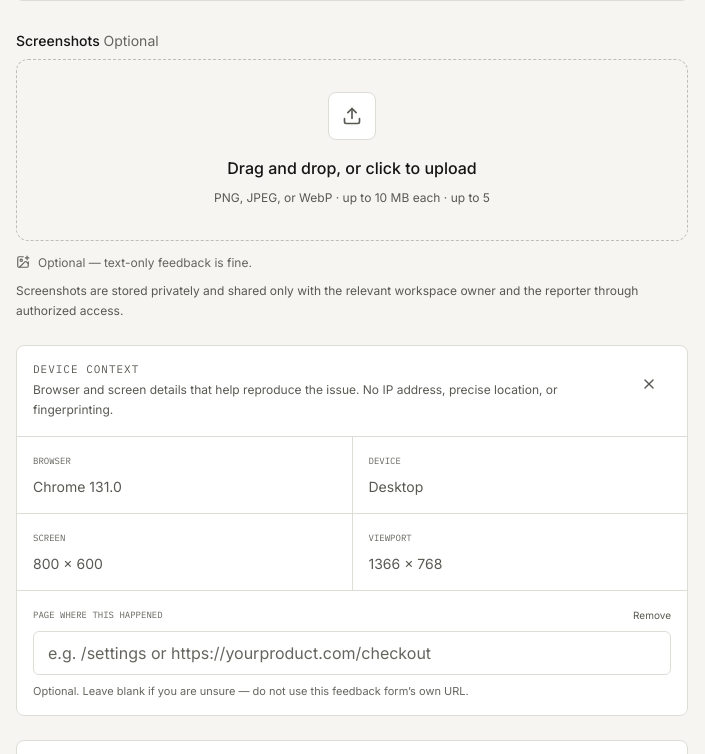
Test: allows browser context and page URL to be removed before submission
The width and height of the screenshot is (705, 754).
(page scrolled)
What coordinates should you click on to do the following:
click the button named "Remove browser and device context"
I would click on:
 (649, 384)
Its box is x1=627 y1=362 x2=671 y2=406.
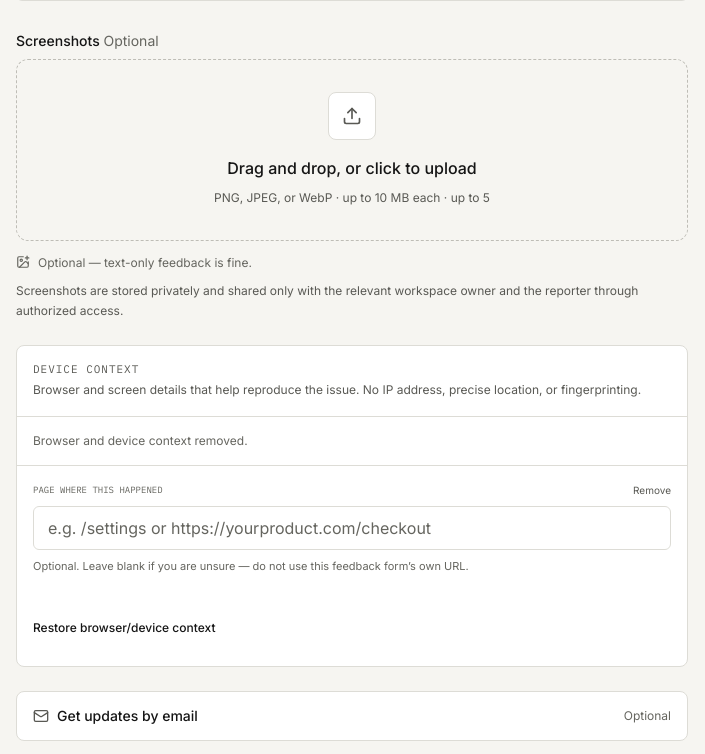
What coordinates should you click on to do the following:
click the button "Remove"
I would click on:
 (652, 490)
Its box is x1=633 y1=482 x2=671 y2=498.
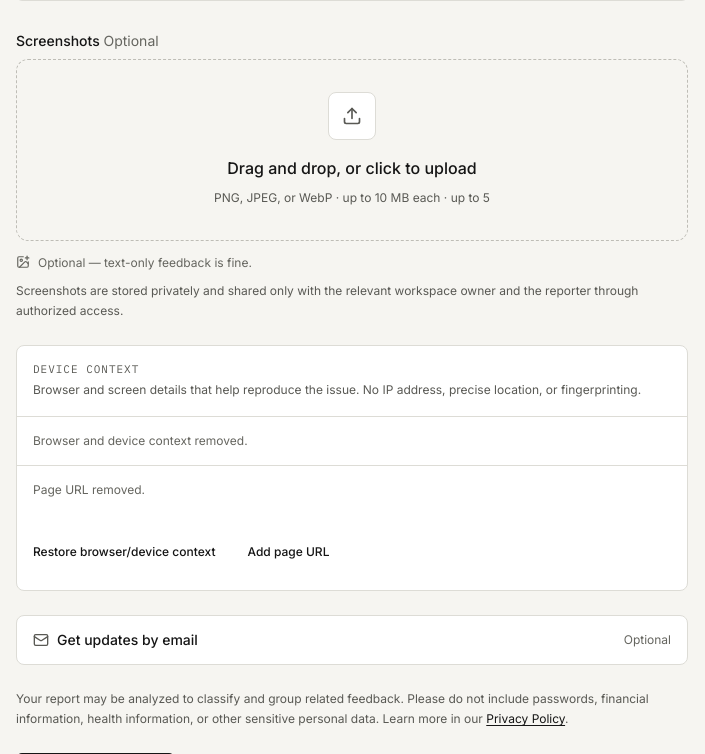
Expected: the text "Browser and device context removed." is shown, x1=17 y1=417 x2=687 y2=465
Expected: the text "Page URL removed." is shown, x1=17 y1=466 x2=687 y2=514
